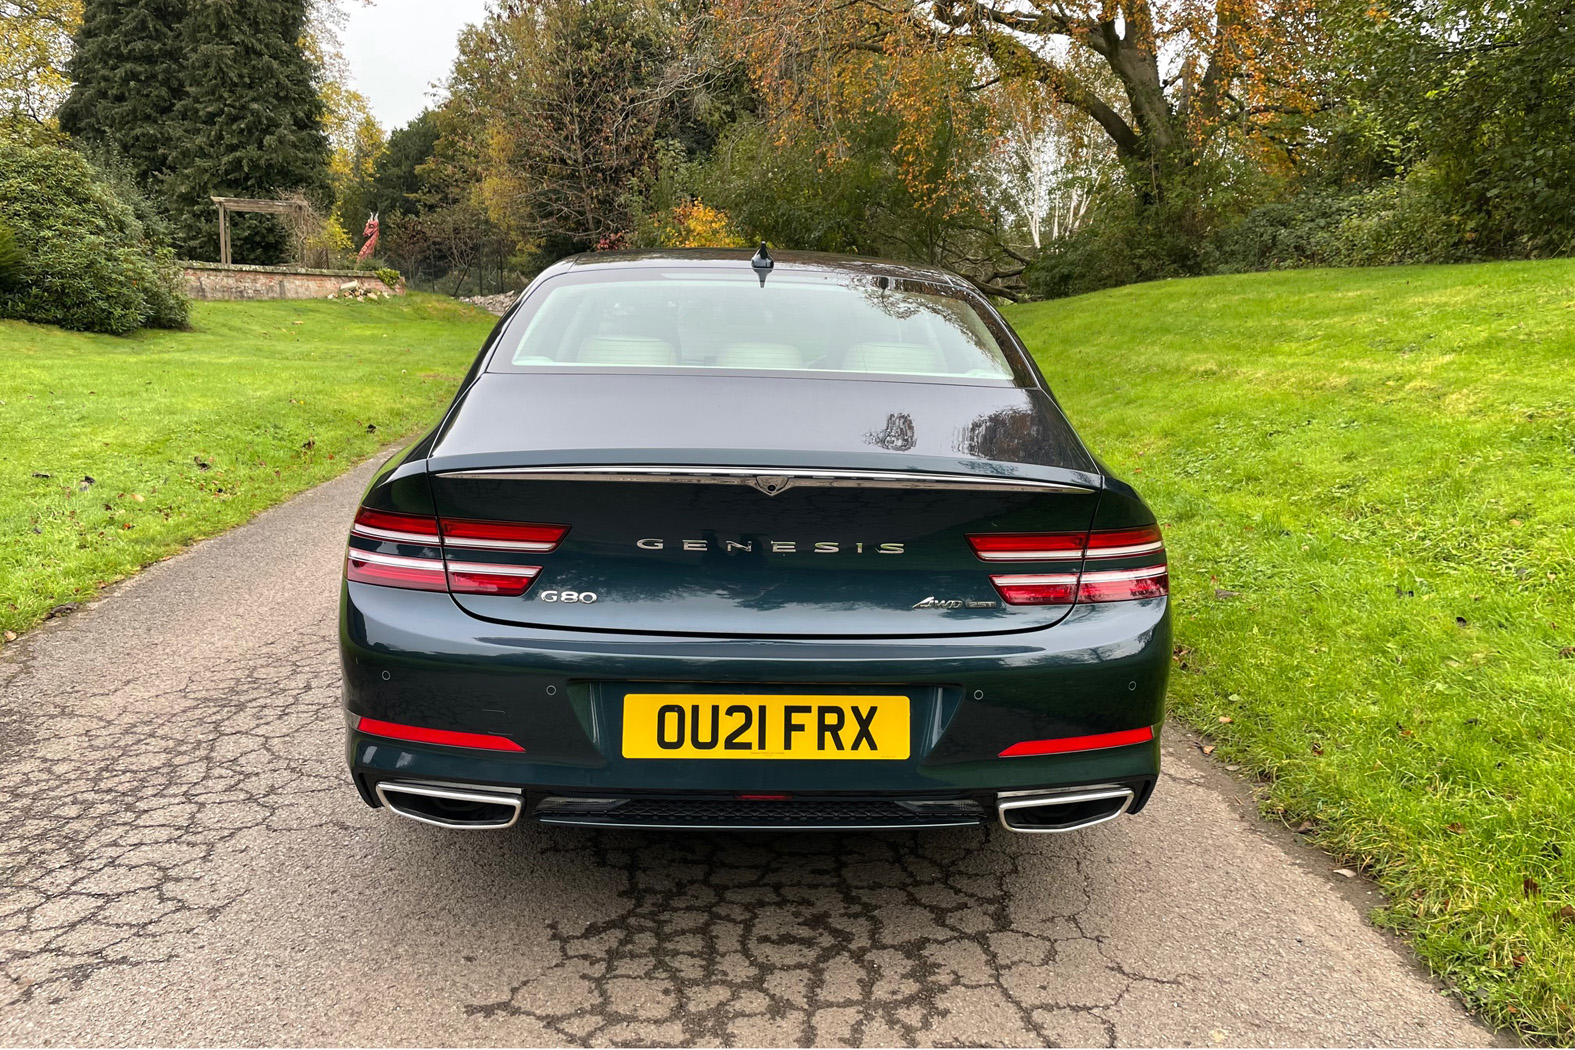car: (335, 238, 1181, 861)
